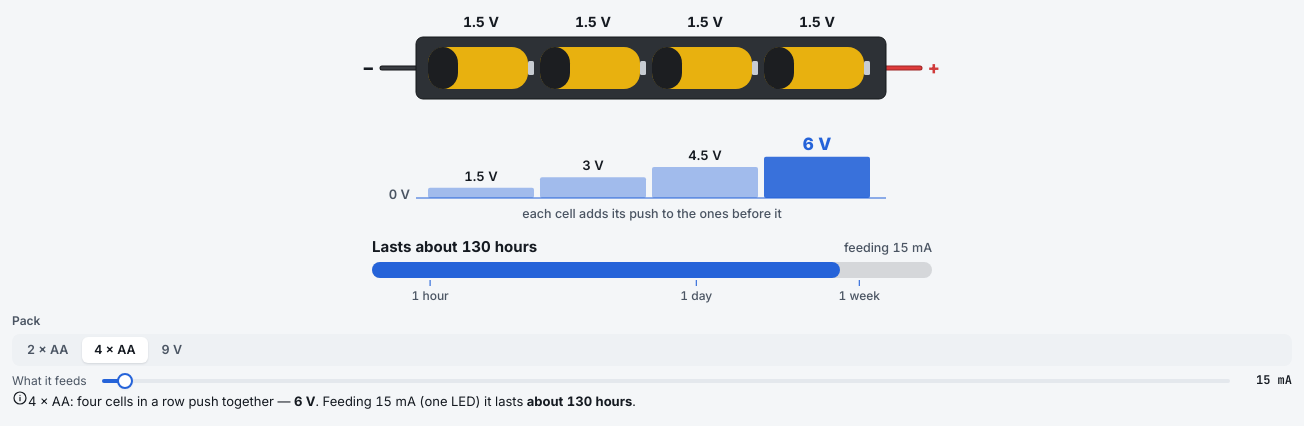
Test: the battery pack, opened › the largest load: 500 mA — soon empty, the 9 V battery in about 1 hour
Press End in the slider named "What it feeds", box [117, 373, 133, 389]
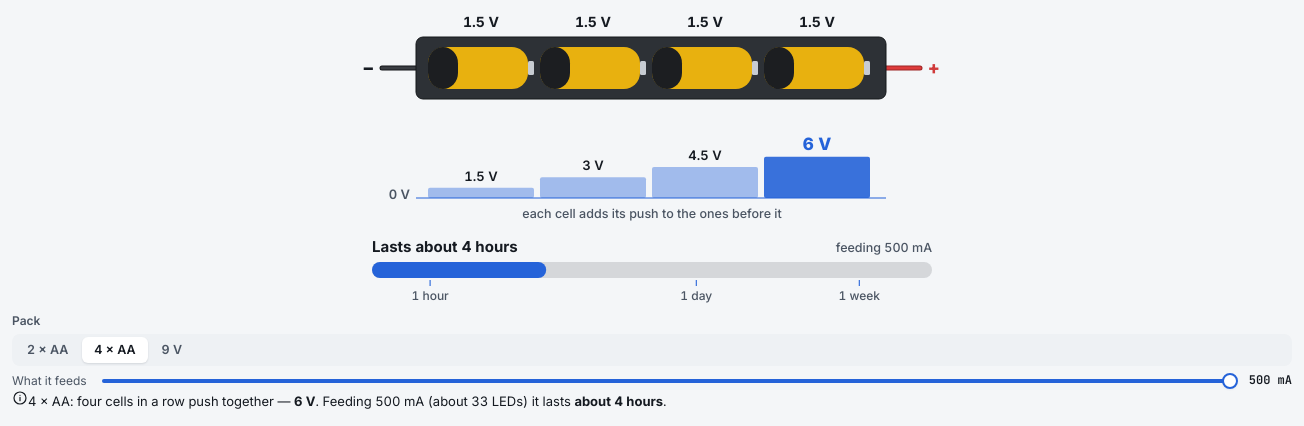
Now the text "about 4 hours" is shown, box [415, 237, 518, 256]
Click the radio button labelled "9 V".
click(172, 350)  # box [150, 337, 194, 363]
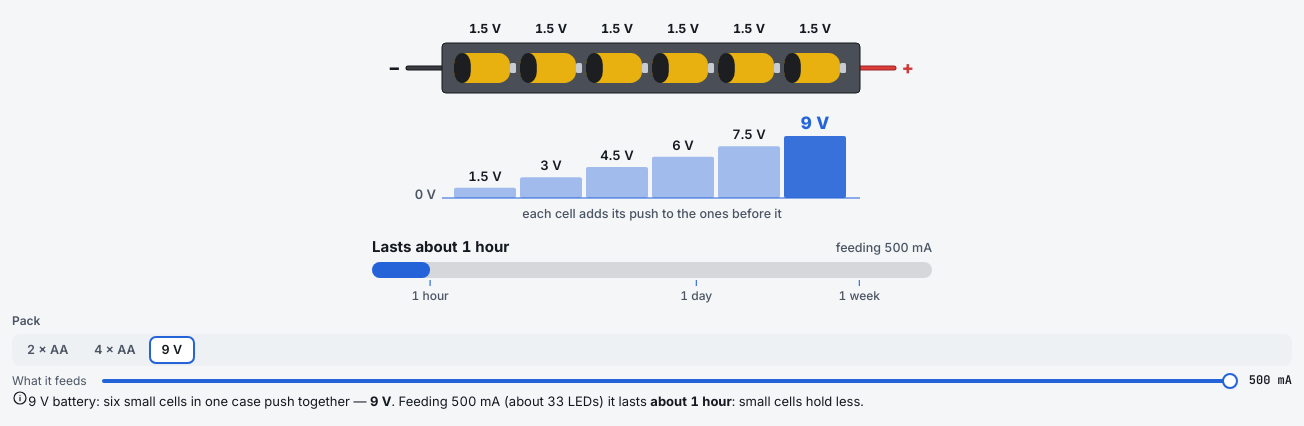
Now the text "it lasts about 1 hour: small cells hold less." is shown, box [28, 393, 864, 409]
